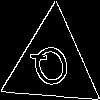Q: (27, 39, 78, 99)
